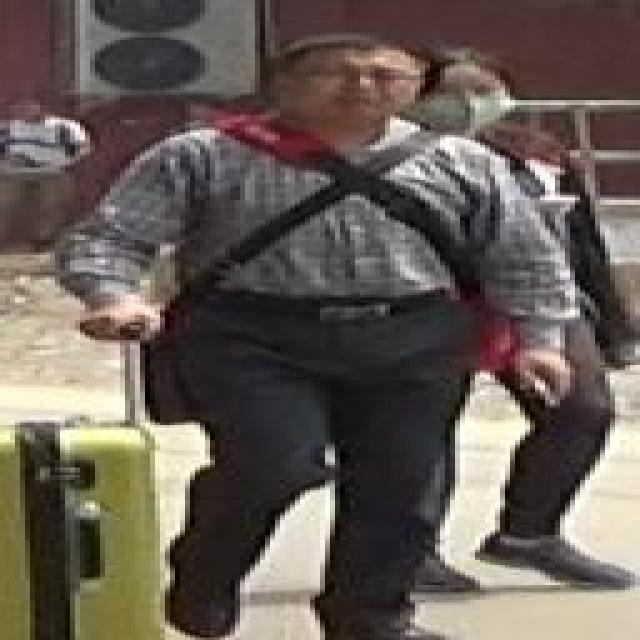adult: (60, 25, 490, 640), (400, 48, 640, 588), (5, 99, 96, 256)
